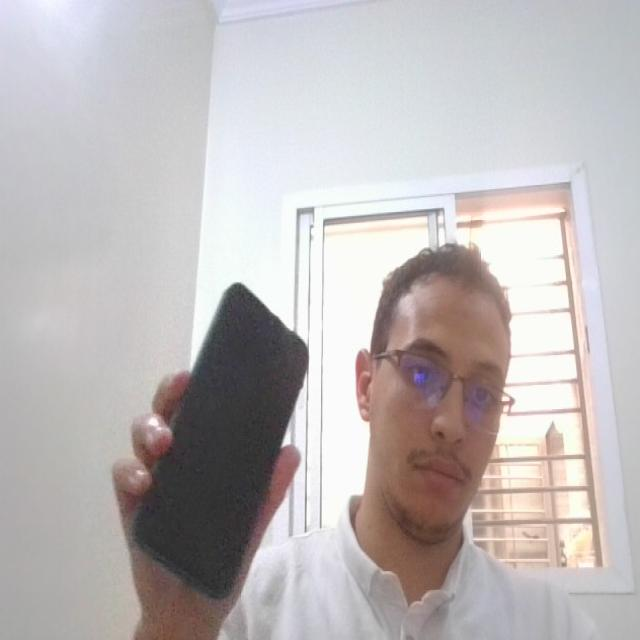phone: (127, 268, 318, 608)
